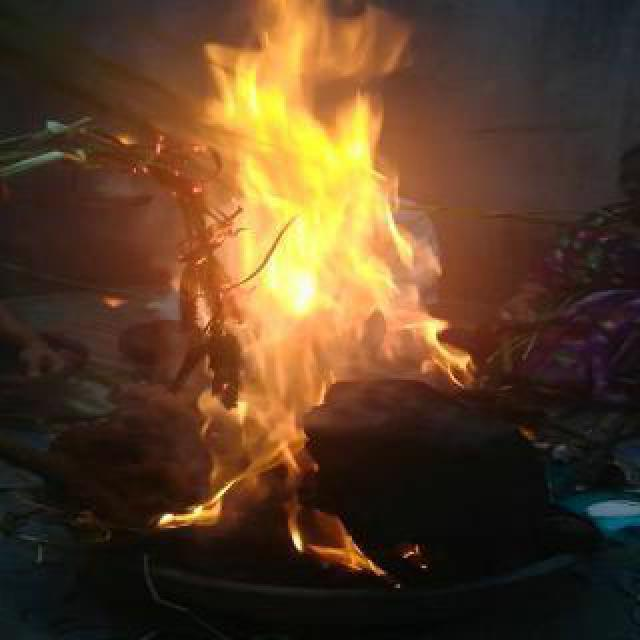Fire: (142, 2, 460, 580)
